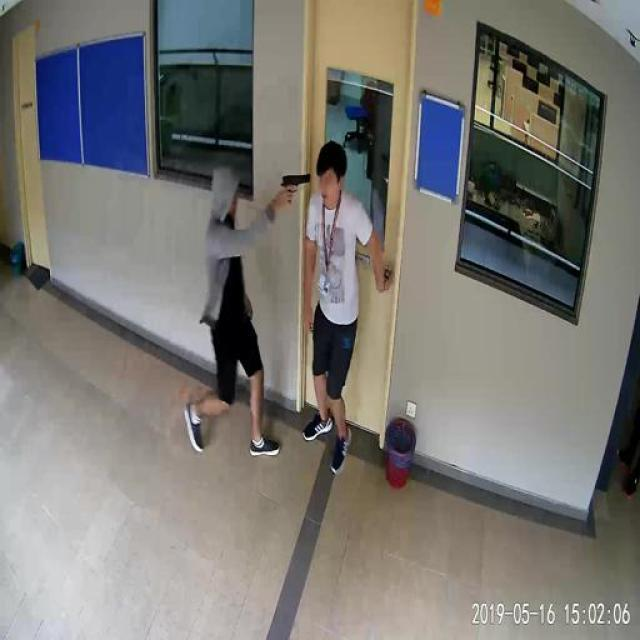Gun: (282, 168, 318, 212)
